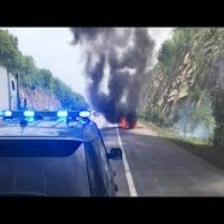smoke: (90, 27, 147, 108)
